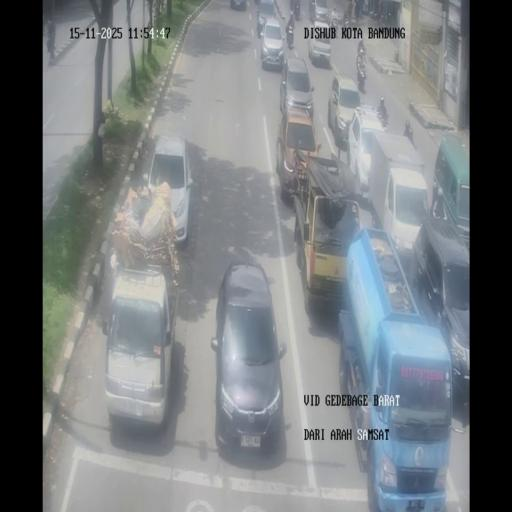3: (338, 230, 452, 506), (295, 156, 363, 314), (365, 133, 428, 254), (432, 135, 469, 258)
car: (211, 256, 286, 457), (103, 264, 178, 432), (146, 133, 192, 244), (276, 106, 320, 200), (279, 54, 314, 120), (328, 72, 360, 144), (308, 26, 332, 66), (255, 0, 278, 39), (311, 0, 329, 25)
truck: (46, 16, 56, 62), (356, 55, 367, 93), (402, 120, 414, 146), (376, 106, 389, 128), (328, 7, 338, 30), (286, 24, 295, 48), (357, 38, 366, 60), (370, 4, 380, 21), (379, 1, 386, 24), (354, 0, 361, 22), (288, 8, 295, 29), (294, 2, 300, 20), (361, 2, 369, 15), (343, 11, 349, 26)
